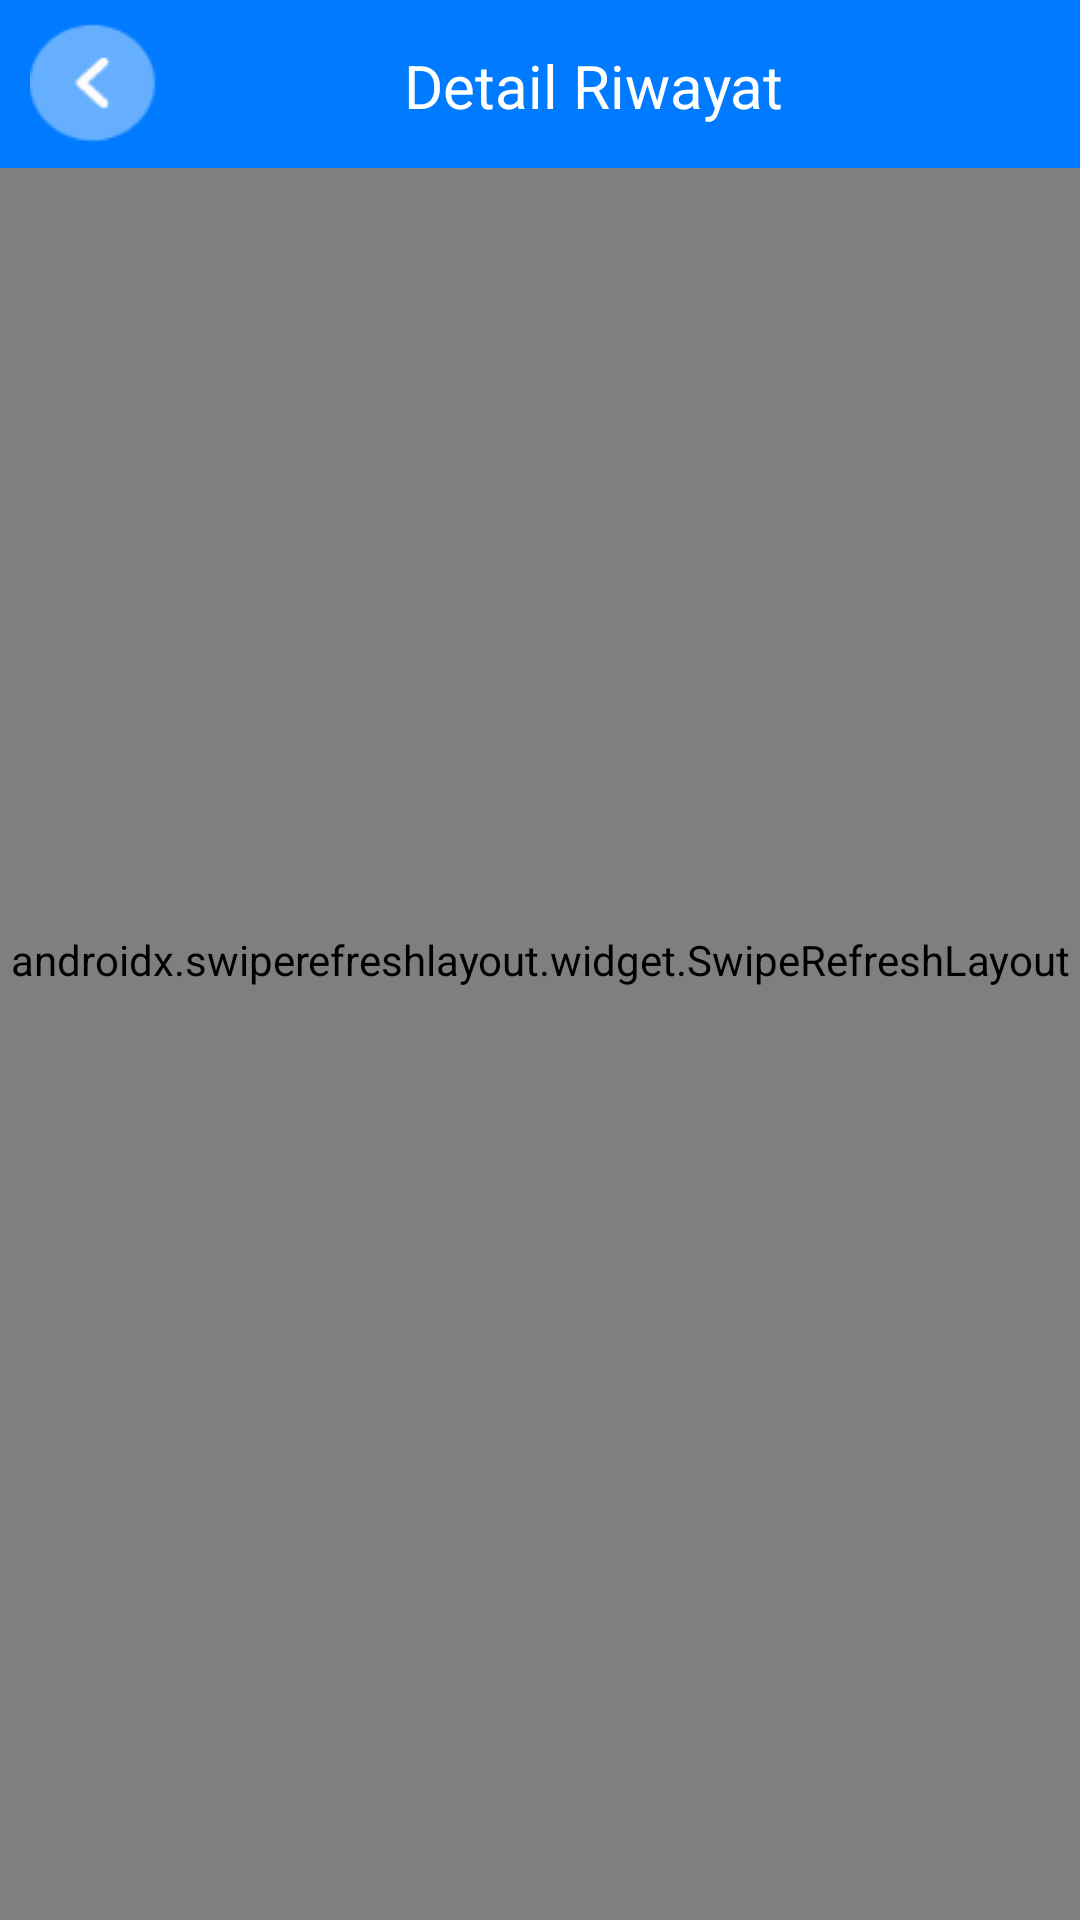

Icon bounding boxes for this 1080 x 1920 phone screenshot, format (x1, y1, x2, y2):
back: (30, 25, 156, 141)
